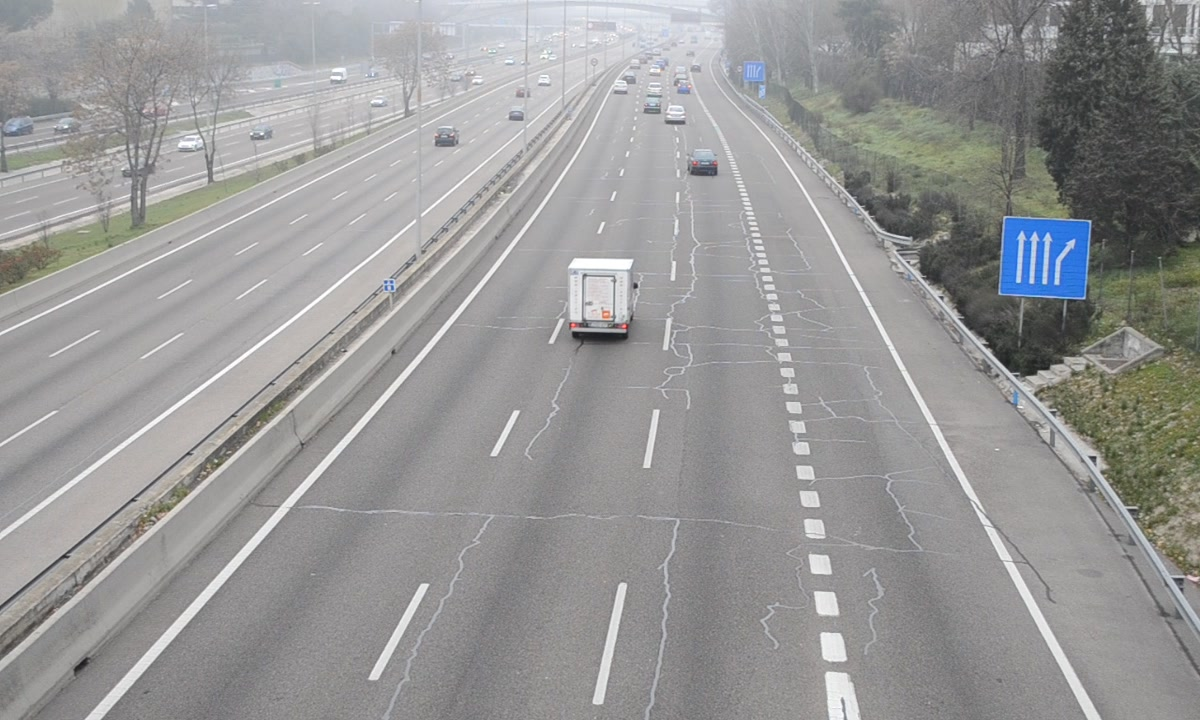car: (686, 146, 719, 176)
small-truck: (568, 258, 637, 336)
